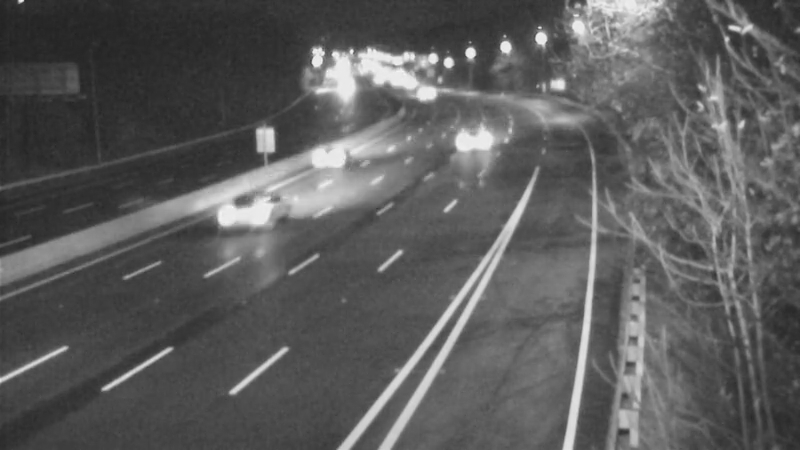vehicle: (292, 116, 372, 196), (199, 172, 279, 252), (399, 63, 449, 113), (452, 119, 502, 169)
